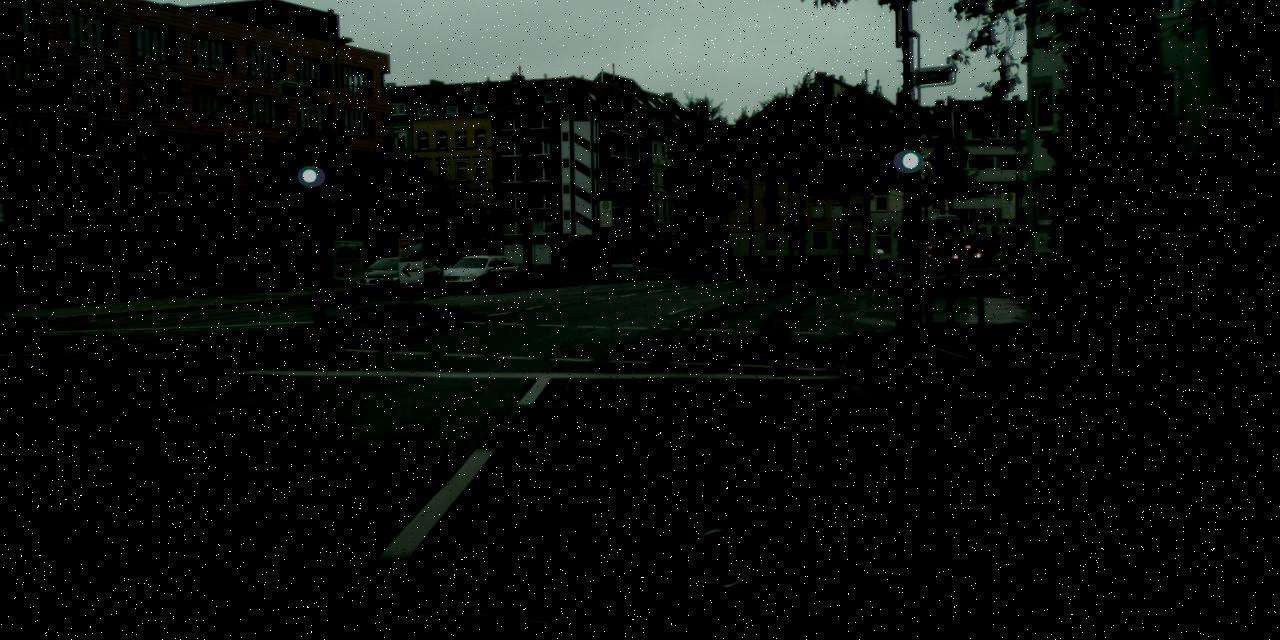ped: (1094, 212, 1135, 312), (1171, 212, 1210, 306), (978, 243, 986, 266), (550, 245, 558, 266)
